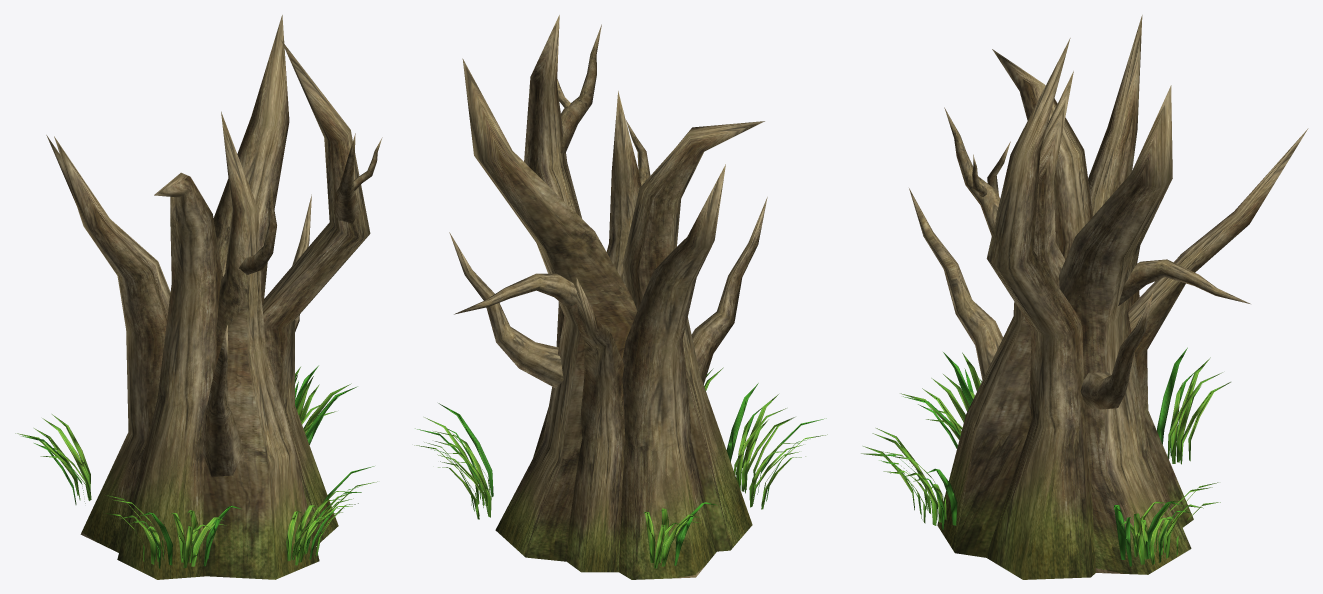
Rendered from n_deadtree02.glb.
3 views of the same model, side by side, from view 1: azimuth 30°, elevation 25°; view 2: azimuth 150°, elevation 25°; view 3: azimuth 270°, elevation 25° (orthographic). The views are drawn at different scales.
Parts seen in each view (by area): view 1: n_deadtree02; view 2: n_deadtree02; view 3: n_deadtree02.
Part boxes in pixels (x1,y1,x2,y2): n_deadtree02: [15, 15, 382, 579]; n_deadtree02: [414, 15, 827, 579]; n_deadtree02: [861, 15, 1308, 579].
Size of the model in its own units: 3.84 by 5.62 by 4.38.
2 materials, 2 textured.
